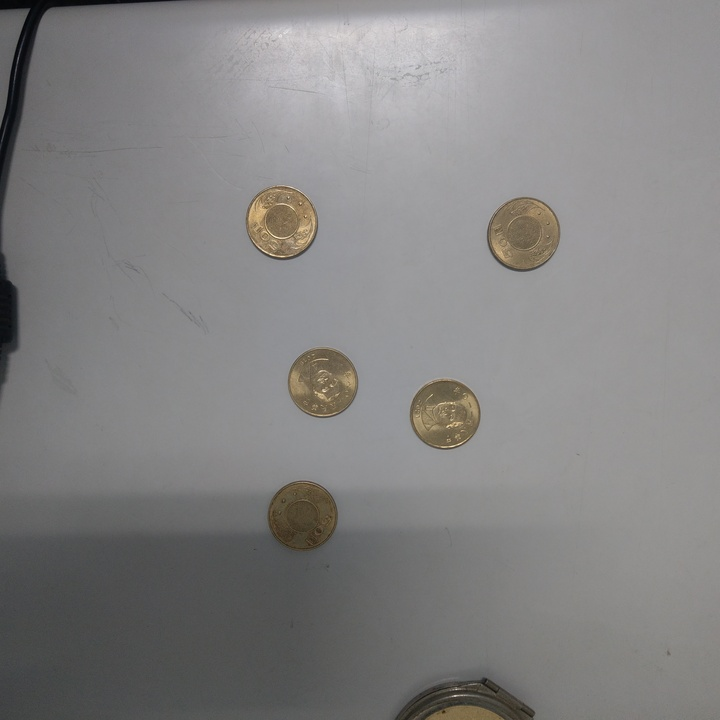50 dollar: (485, 195, 562, 276), (286, 348, 362, 420), (244, 187, 318, 260), (265, 480, 339, 553), (411, 377, 482, 452)
